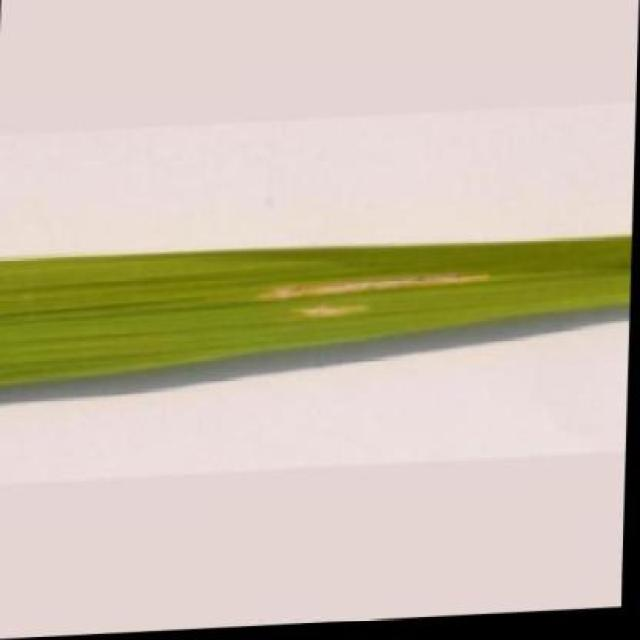Brown_Spot: (0, 233, 634, 393)
